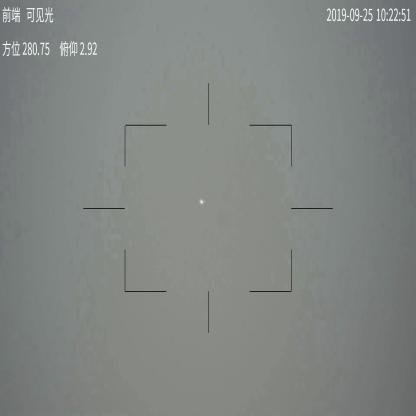uav: (198, 196, 206, 207)
